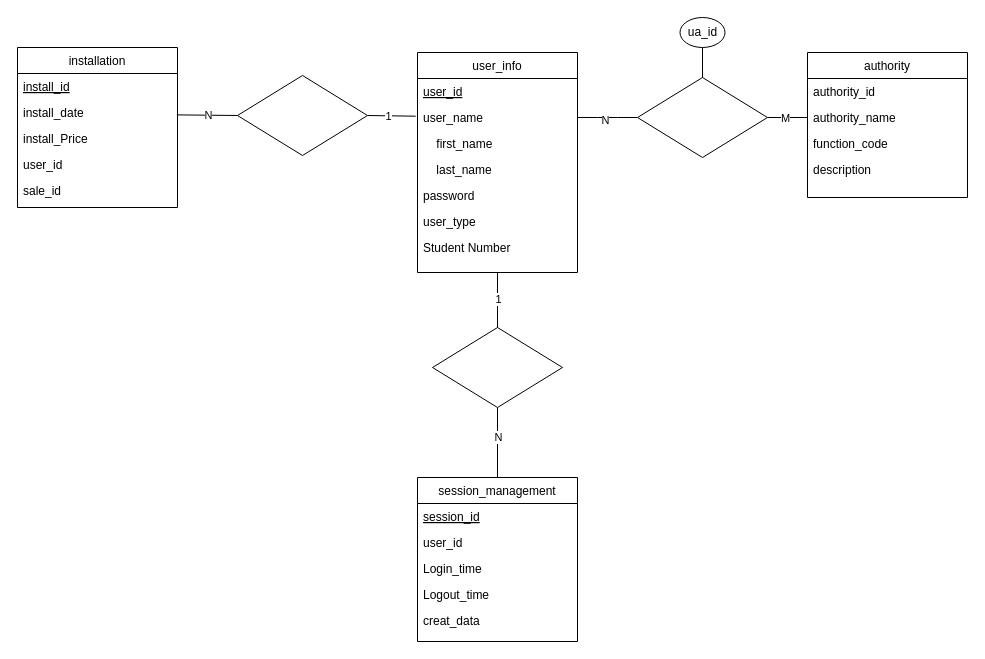
The diagram is 985 pixels wide and 659 high, and some of its shapes have lost their labels. Here are the shapes that lost their labels. From the top down, the centre of each, then its label:
At (x=302, y=115): "assign".
At (x=702, y=117): "ua_relation".
At (x=497, y=367): "record".
